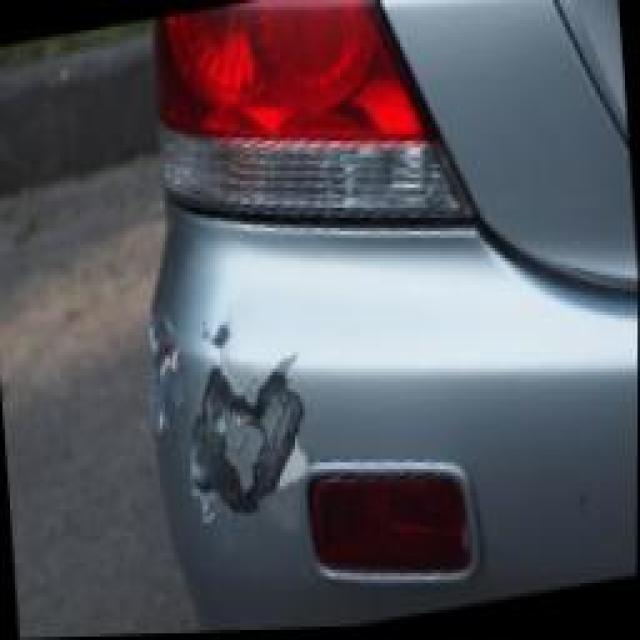Bumper: (110, 211, 379, 575)
